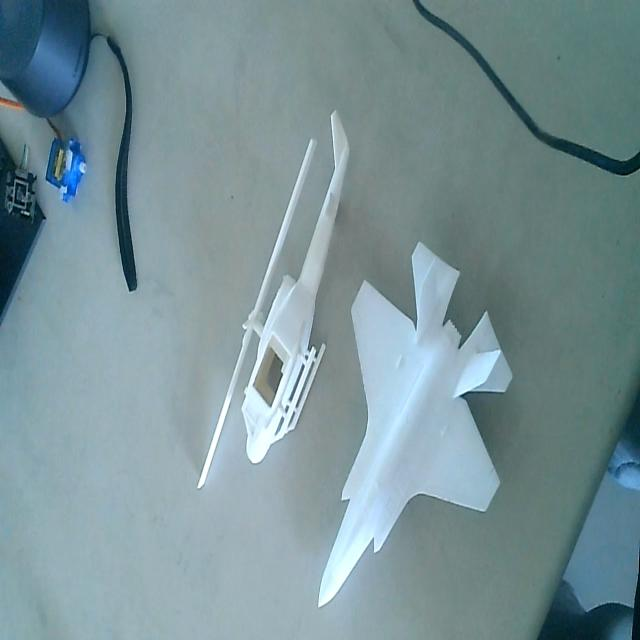Helicopter: (195, 108, 351, 480)
Jet: (314, 239, 517, 612)
